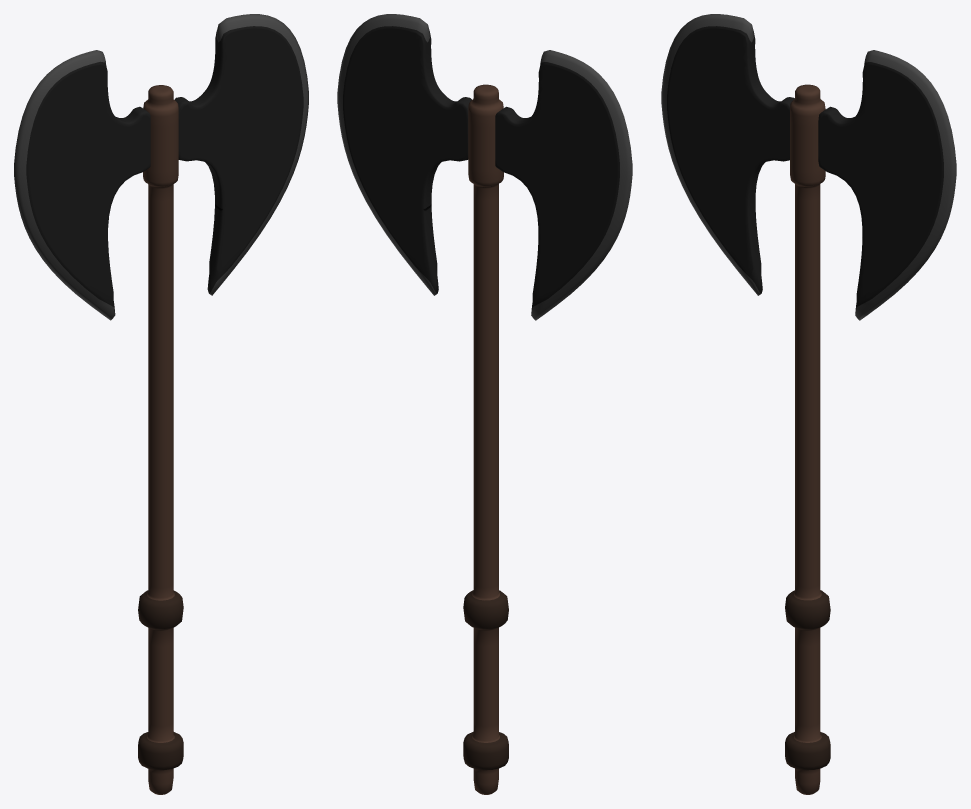
The picture shows the model from 3 angles, left to right: view 1: azimuth 30°, elevation 25°; view 2: azimuth 150°, elevation 25°; view 3: azimuth 330°, elevation 25°; orthographic projection.
Parts seen in each view (by area): view 1: Cylinder001; view 2: Cylinder001; view 3: Cylinder001.
Boxes of the visible parts, left/top/right/bottom form: Cylinder001: left=14, top=14, right=308, bottom=794; Cylinder001: left=337, top=14, right=632, bottom=794; Cylinder001: left=661, top=14, right=956, bottom=794.
Size of the model in its own units: 13.09 by 32.11 by 1.78.
1 material, 1 textured.
